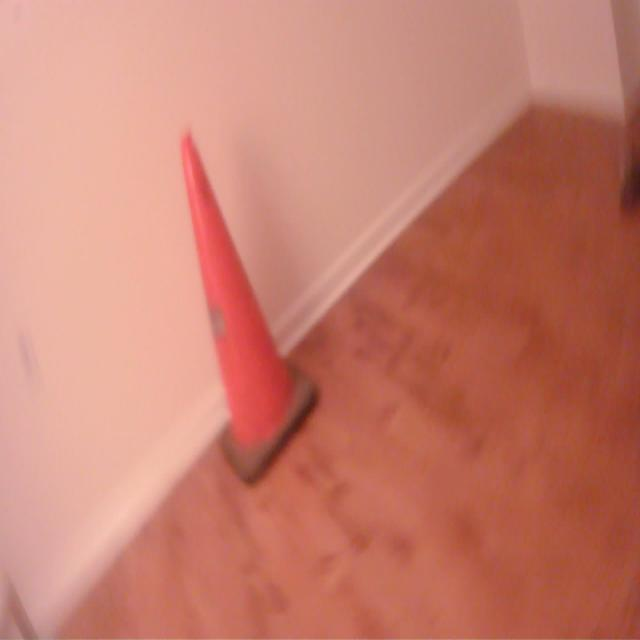traffic cone: (178, 125, 322, 493)
